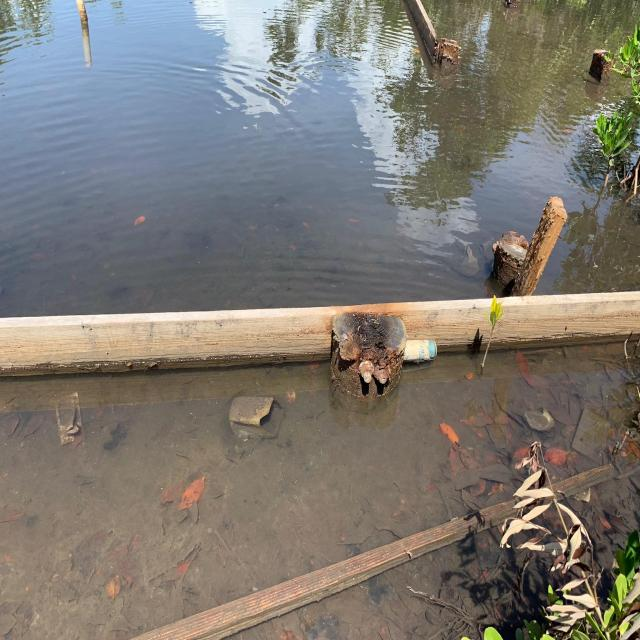litter: (403, 338, 439, 361)
